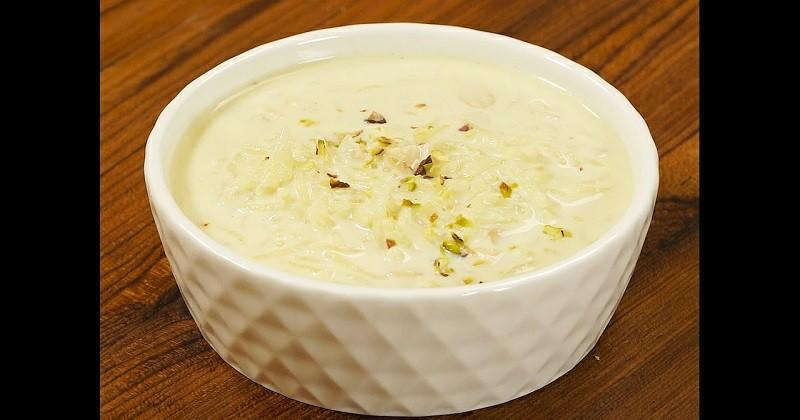Kheer: (173, 61, 647, 284)
